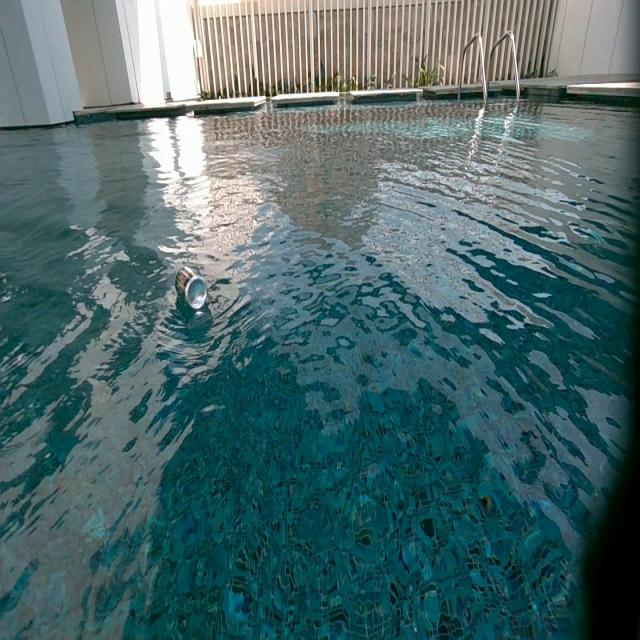Cans: (175, 266, 208, 308)
